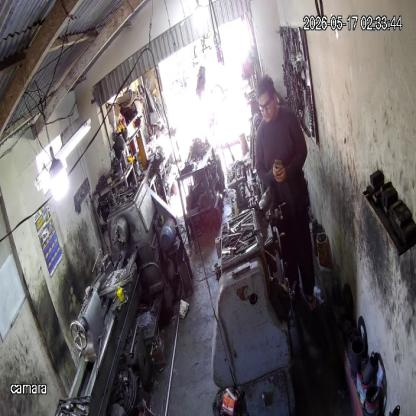lentes: (258, 96, 274, 112)
